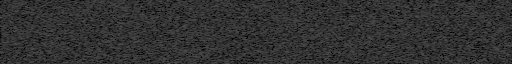wv_cw: (313, 0, 318, 64)
wv_lsb: (475, 1, 480, 54), (475, 55, 480, 64)
wv_wbfm: (348, 0, 357, 64)
